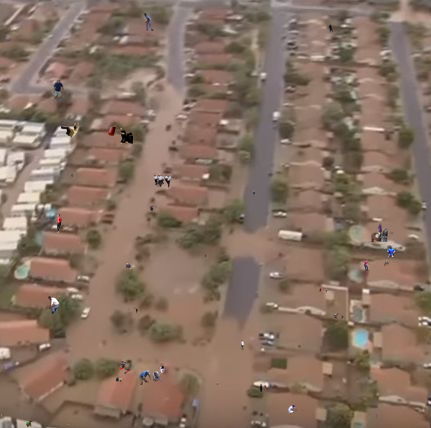Human: (139, 366, 165, 385), (371, 223, 396, 242), (108, 127, 133, 144), (153, 174, 177, 190), (48, 296, 69, 314), (59, 122, 79, 138), (364, 259, 390, 271), (53, 80, 65, 101), (144, 13, 154, 31), (118, 361, 130, 374), (56, 214, 64, 233), (288, 405, 303, 413), (257, 382, 267, 392), (387, 246, 396, 257), (126, 307, 141, 313), (334, 313, 344, 320), (123, 262, 131, 269), (150, 206, 159, 211), (319, 288, 328, 293), (116, 376, 122, 383), (26, 421, 32, 427), (329, 24, 333, 32), (241, 340, 244, 350), (67, 423, 73, 427), (253, 189, 255, 196), (71, 173, 73, 178), (374, 415, 377, 418), (205, 254, 207, 257), (1, 414, 2, 418), (217, 382, 218, 385)
